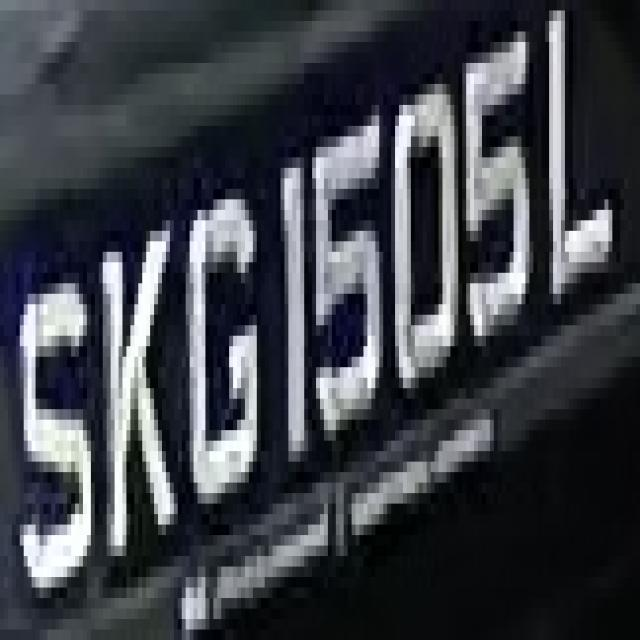0: (379, 74, 466, 409)
1: (265, 126, 316, 483)
5: (300, 105, 391, 441), (454, 0, 530, 357)
G: (178, 136, 261, 535)
K: (102, 178, 178, 588)
L: (537, 0, 616, 304)
S: (12, 220, 99, 630)
